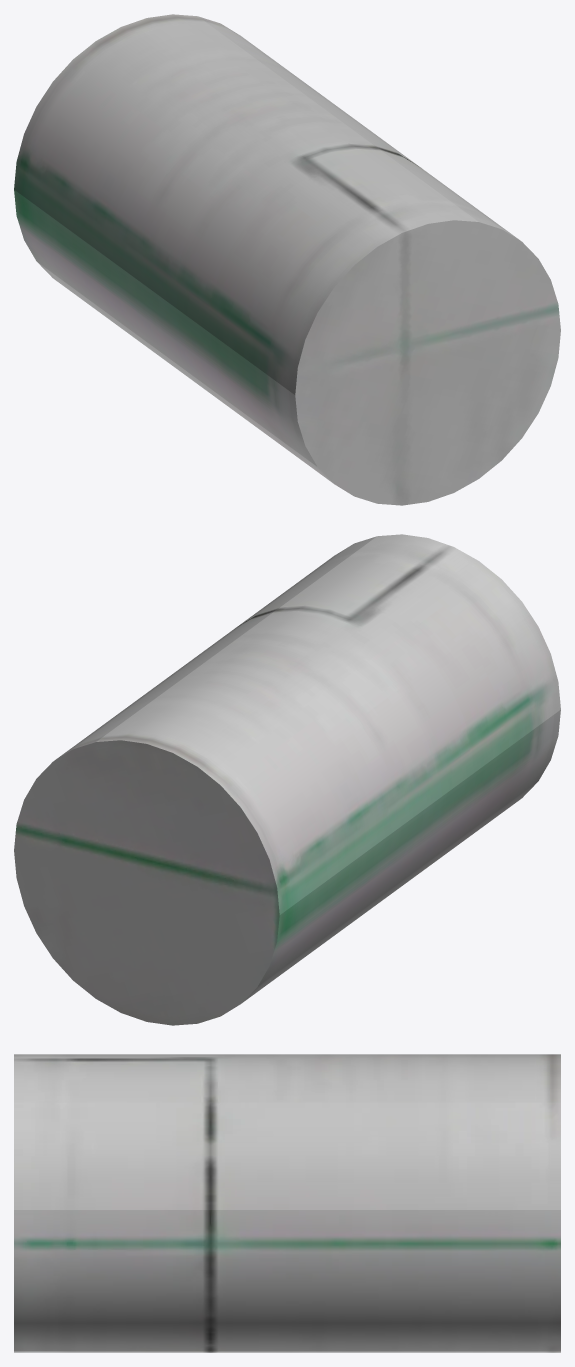
The model's file is optical_carriage__objective_side_right.glb.
3 views of the same model, one above another, from view 1: azimuth 30°, elevation 25°; view 2: azimuth 150°, elevation 25°; view 3: azimuth 270°, elevation 25° (orthographic). The views are drawn at different scales.
Parts seen in each view (by area): view 1: geometry_0; view 2: geometry_0; view 3: geometry_0.
Boxes of the visible parts, box(x1,y1,x2,y2) form: geometry_0: box(14, 14, 560, 505); geometry_0: box(14, 534, 560, 1025); geometry_0: box(14, 1054, 560, 1352).
Size of the model in its own units: 0.012 by 0.012 by 0.022.
Materials: 1 (1 with a texture image).
